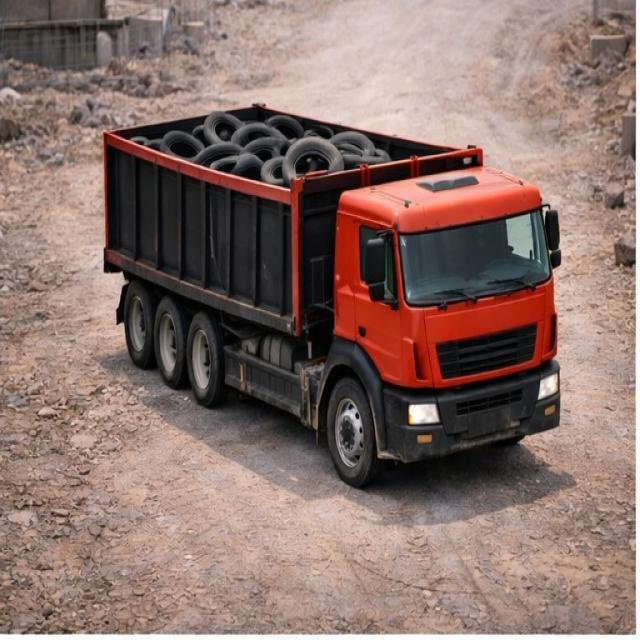Box: (102, 96, 491, 188)
Truck: (100, 70, 566, 472)
